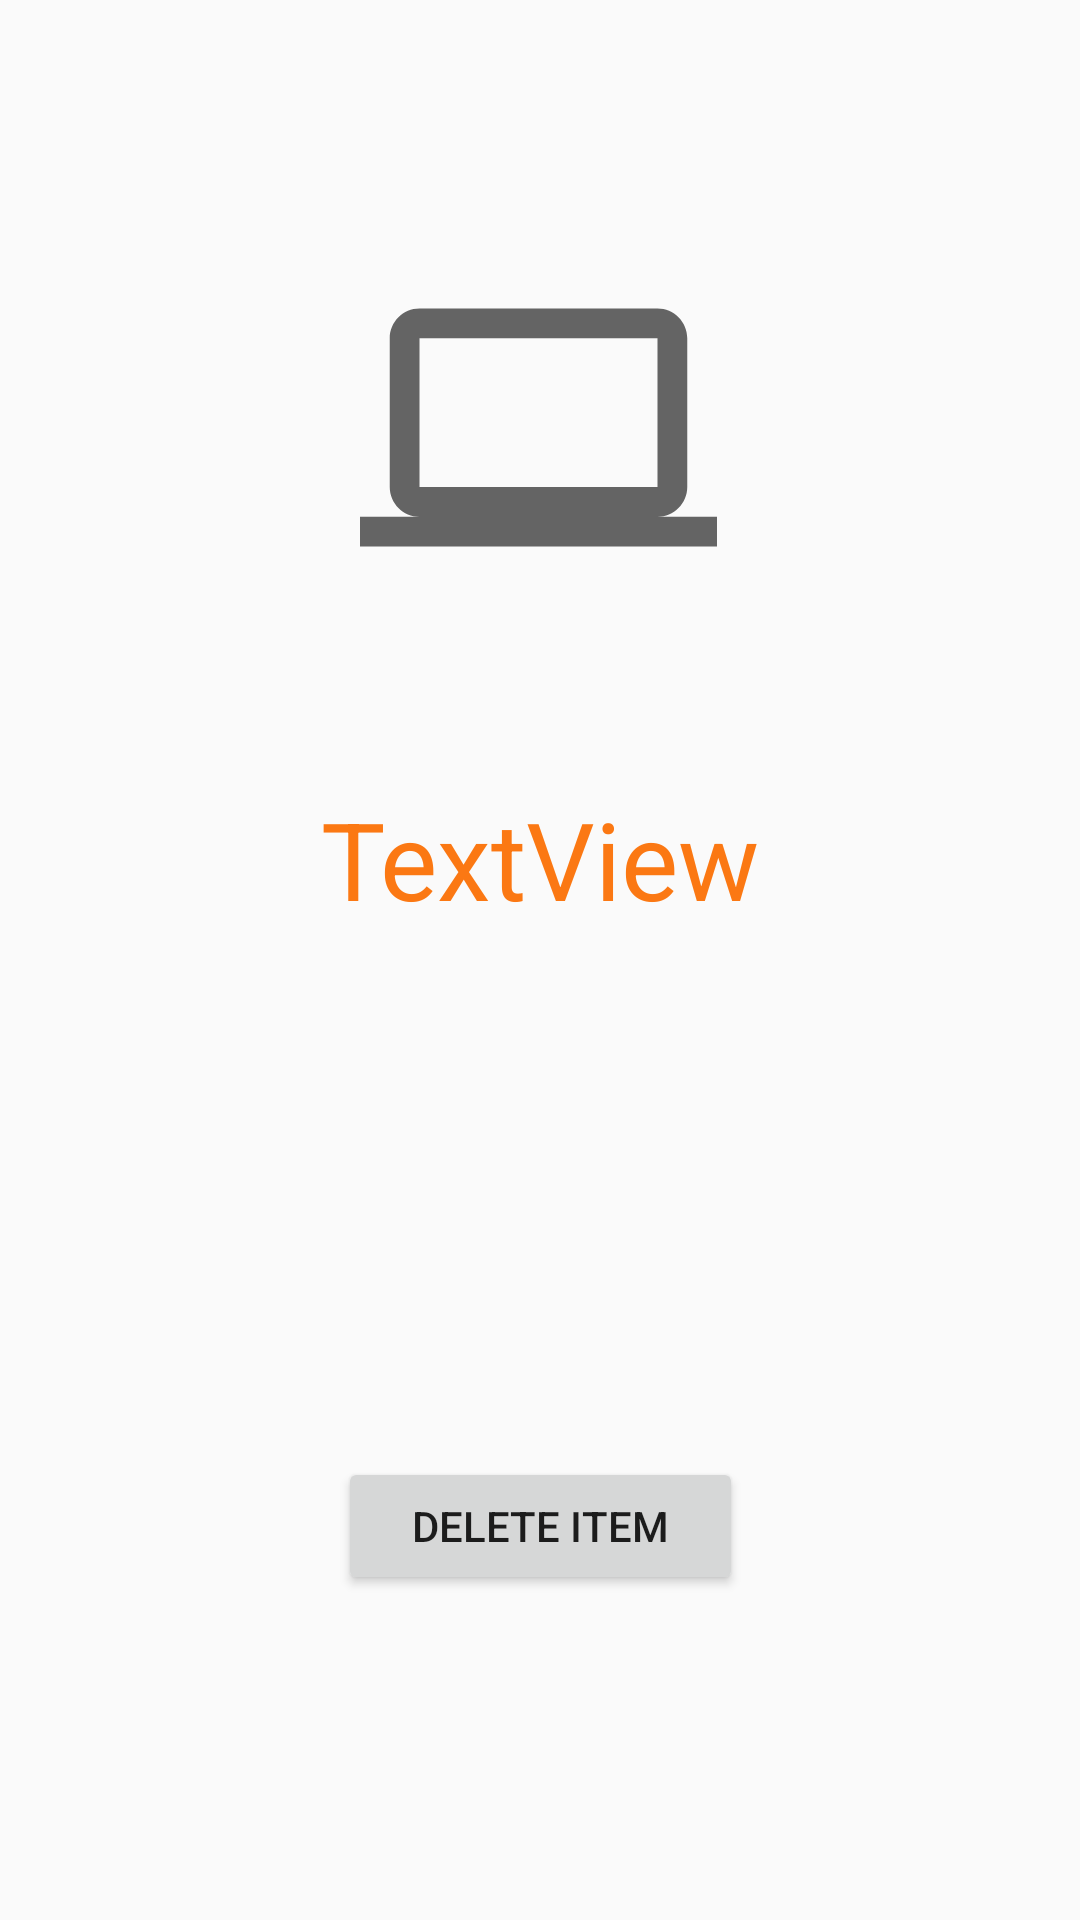

Named icons in this screenshot (1080x1920) and their bounding boxes, [x1,y1,x2,y2]:
laptop: [360,308,717,547]
